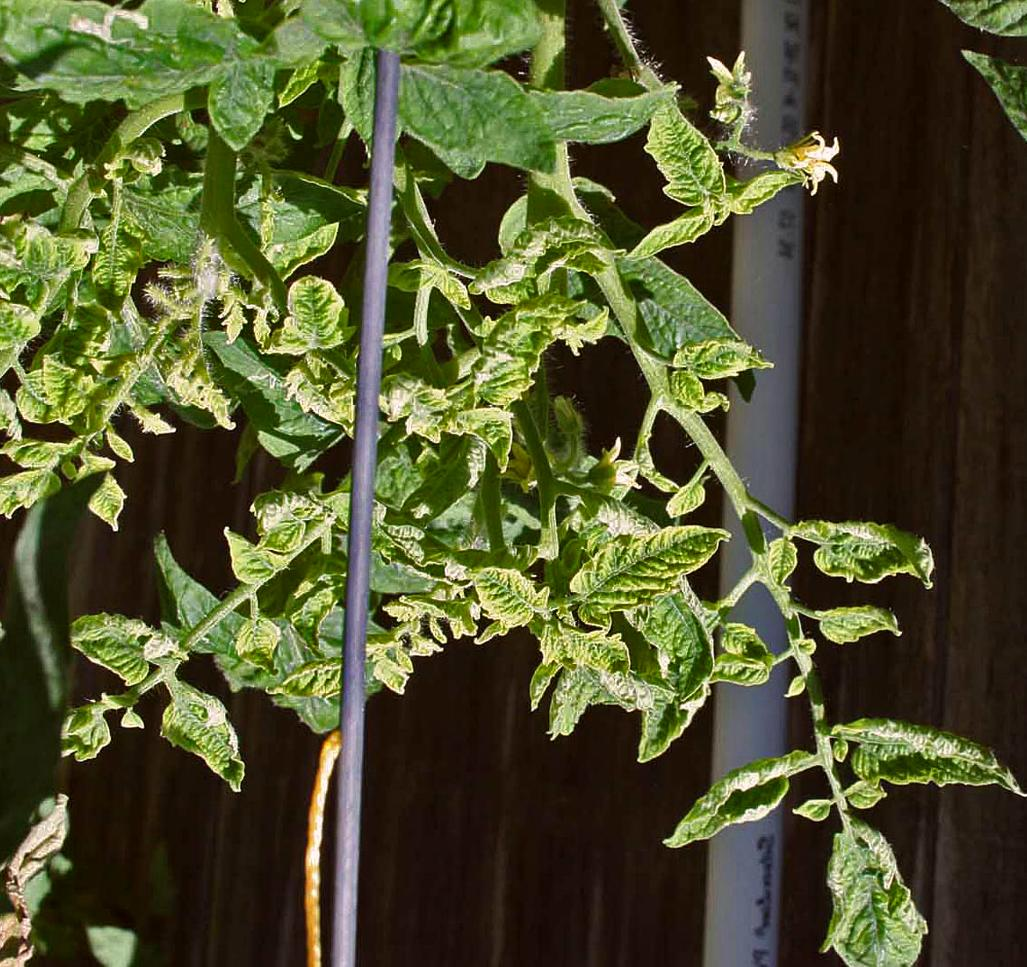Tomato leaf yellow virus: (0, 0, 287, 139), (341, 43, 575, 187), (424, 295, 581, 466), (820, 698, 1027, 808), (774, 497, 972, 596), (551, 512, 726, 621), (624, 96, 755, 228), (811, 821, 925, 967), (160, 678, 258, 798), (665, 331, 797, 409), (454, 549, 563, 640), (529, 614, 647, 692), (0, 219, 105, 302), (266, 264, 355, 361), (0, 452, 68, 572), (11, 356, 114, 434), (65, 603, 163, 683), (807, 596, 920, 656), (0, 290, 55, 351)
